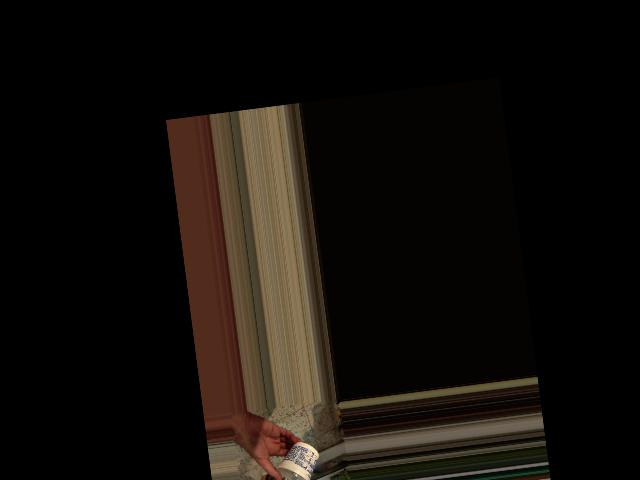cotage: (273, 445, 321, 480)
